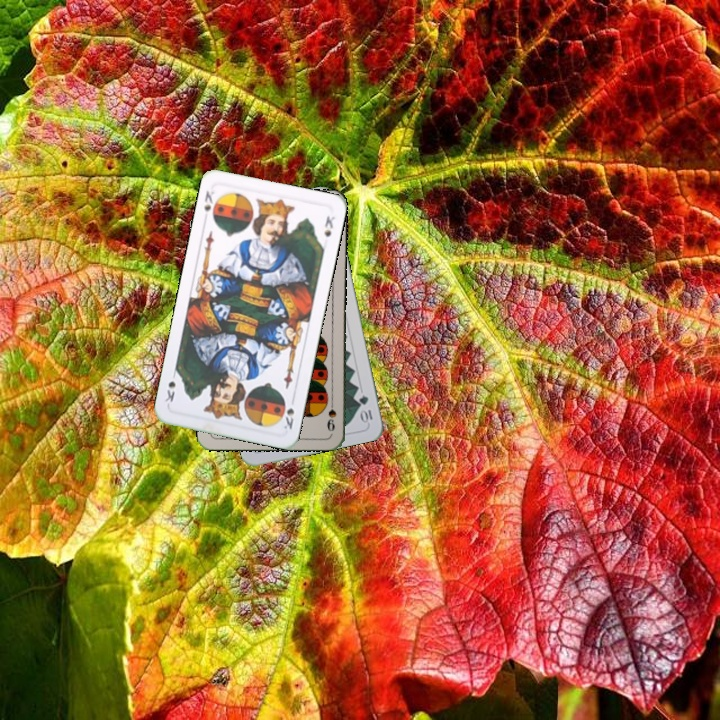G10: (355, 391, 375, 425)
S9: (323, 394, 338, 434)
SK: (280, 404, 297, 432), (200, 187, 217, 214)
